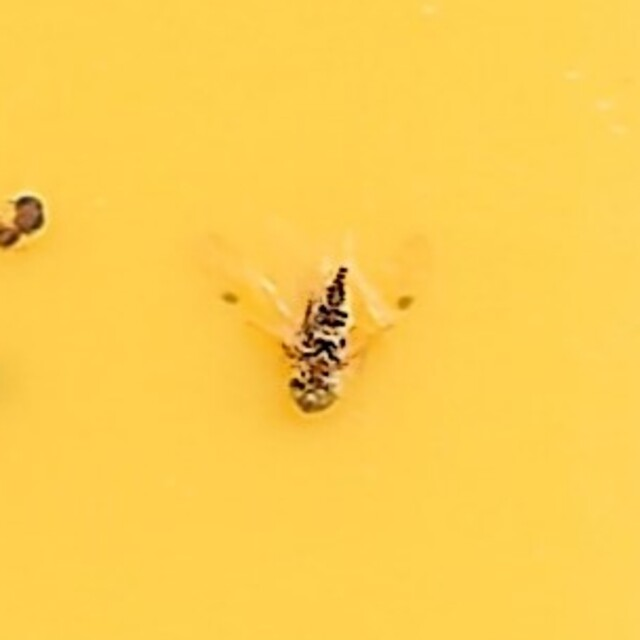Hemiptera: (211, 216, 429, 424)
